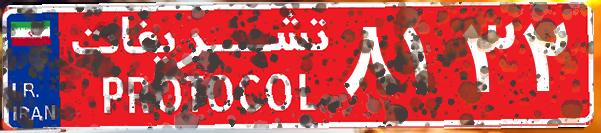1: (400, 20, 460, 115)
2: (520, 20, 580, 115)
3: (460, 20, 520, 115)
8: (340, 20, 400, 115)
تشریفات: (60, 8, 340, 125)
